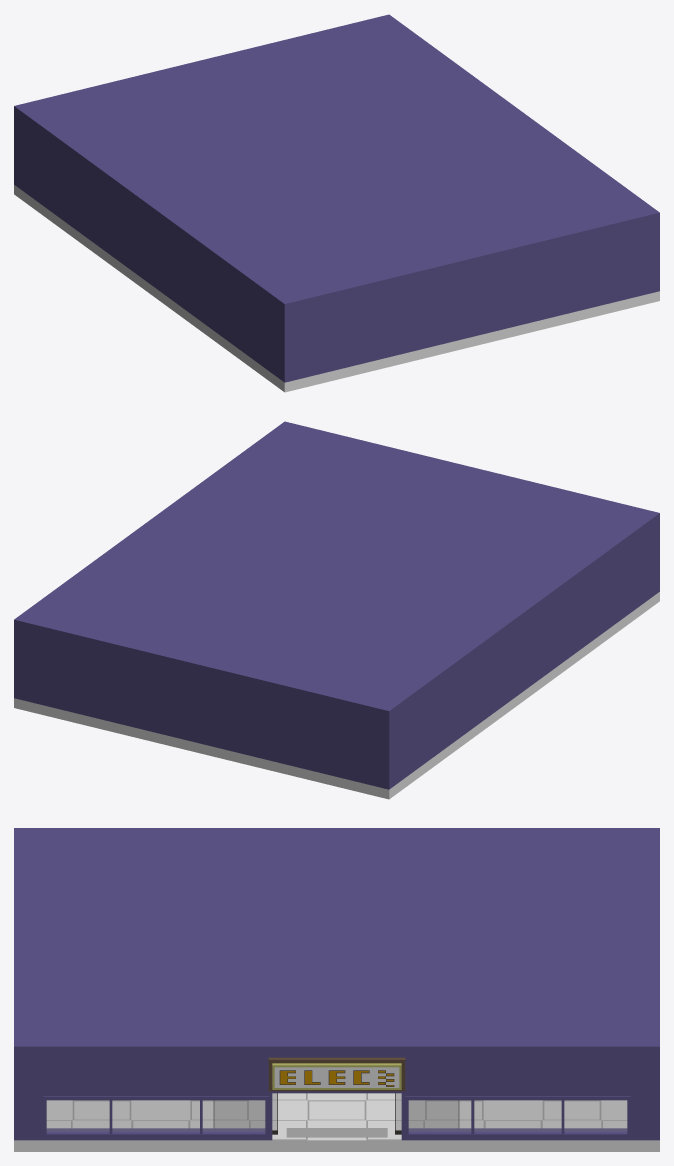
File: Tienda de Electronicos 1.fbx
The picture shows the model from 3 angles, top to bottom: view 1: azimuth 30°, elevation 25°; view 2: azimuth 150°, elevation 25°; view 3: azimuth 270°, elevation 25°; orthographic projection. The views are drawn at different scales.
Visible parts, largest first — view 1: Techo, Pared_31x10x1, Pared_1x10x46, Piso1, Esquina_1x10x1, Esquina_1x10x35, Esquina_1x10x28; view 2: Techo, Pared_31x10x2, Pared_1x10x46, Piso1, Esquina_1x10x28, Esquina_1x10x36, Esquina_1x10x1; view 3: Techo, Fachada_4, Piso1, Vidrio_Elec_2, Vidrio_Elec_1, Letrero, Esquina_1x10x35, Esquina_1x10x36, Vidrio_puerta_Elec_2, Vidrio_puerta_Elec_1, Alfombra.
Boxes of the visible parts, left/top/right/bottom form: Techo: left=14, top=14, right=659, bottom=313; Pared_31x10x1: left=303, top=227, right=641, bottom=377; Pared_1x10x46: left=24, top=124, right=273, bottom=374; Piso1: left=14, top=185, right=659, bottom=392; Esquina_1x10x1: left=274, top=306, right=303, bottom=382; Esquina_1x10x35: left=641, top=222, right=659, bottom=295; Esquina_1x10x28: left=14, top=116, right=24, bottom=191; Techo: left=14, top=421, right=659, bottom=720; Pared_31x10x2: left=32, top=634, right=370, bottom=784; Pared_1x10x46: left=400, top=531, right=649, bottom=781; Piso1: left=14, top=592, right=659, bottom=799; Esquina_1x10x28: left=370, top=713, right=399, bottom=789; Esquina_1x10x36: left=14, top=629, right=32, bottom=702; Esquina_1x10x1: left=649, top=523, right=659, bottom=598; Techo: left=14, top=828, right=659, bottom=1058; Fachada_4: left=40, top=1058, right=633, bottom=1140; Piso1: left=14, top=1093, right=659, bottom=1151; Vidrio_Elec_2: left=409, top=1100, right=626, bottom=1131; Vidrio_Elec_1: left=47, top=1100, right=264, bottom=1131; Letrero: left=268, top=1057, right=405, bottom=1091; Esquina_1x10x35: left=14, top=1058, right=39, bottom=1140; Esquina_1x10x36: left=634, top=1058, right=659, bottom=1140; Vidrio_puerta_Elec_2: left=396, top=1093, right=458, bottom=1129; Vidrio_puerta_Elec_1: left=214, top=1093, right=276, bottom=1129; Alfombra: left=286, top=1128, right=387, bottom=1137.
Bounding box in the file's own units: 40.76 × 9 × 50.
